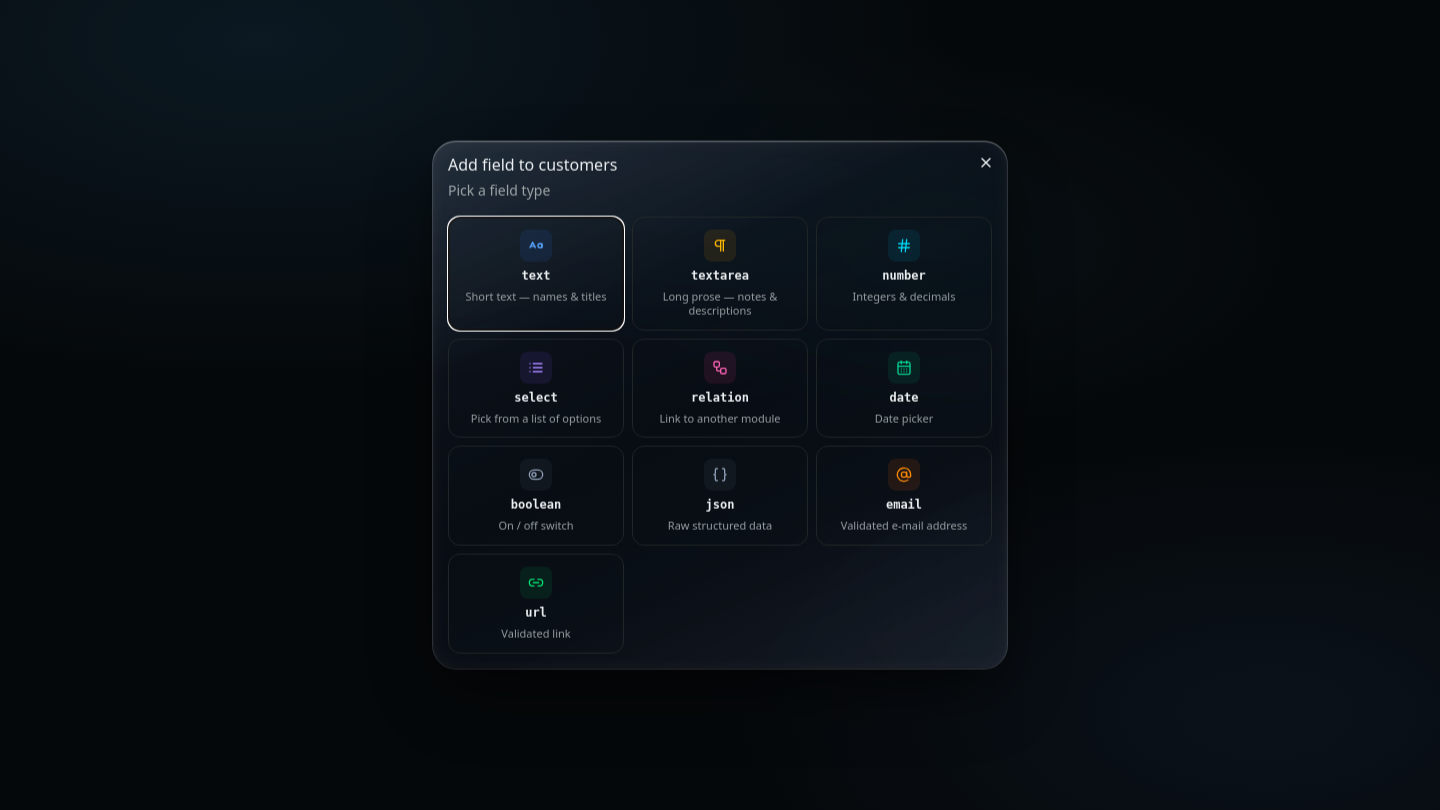
Test: FieldModal add flow › blocks saving an empty label/name
Step 1. Click the button "text Short text — names & titles" → (536, 273), box [448,217,624,330]
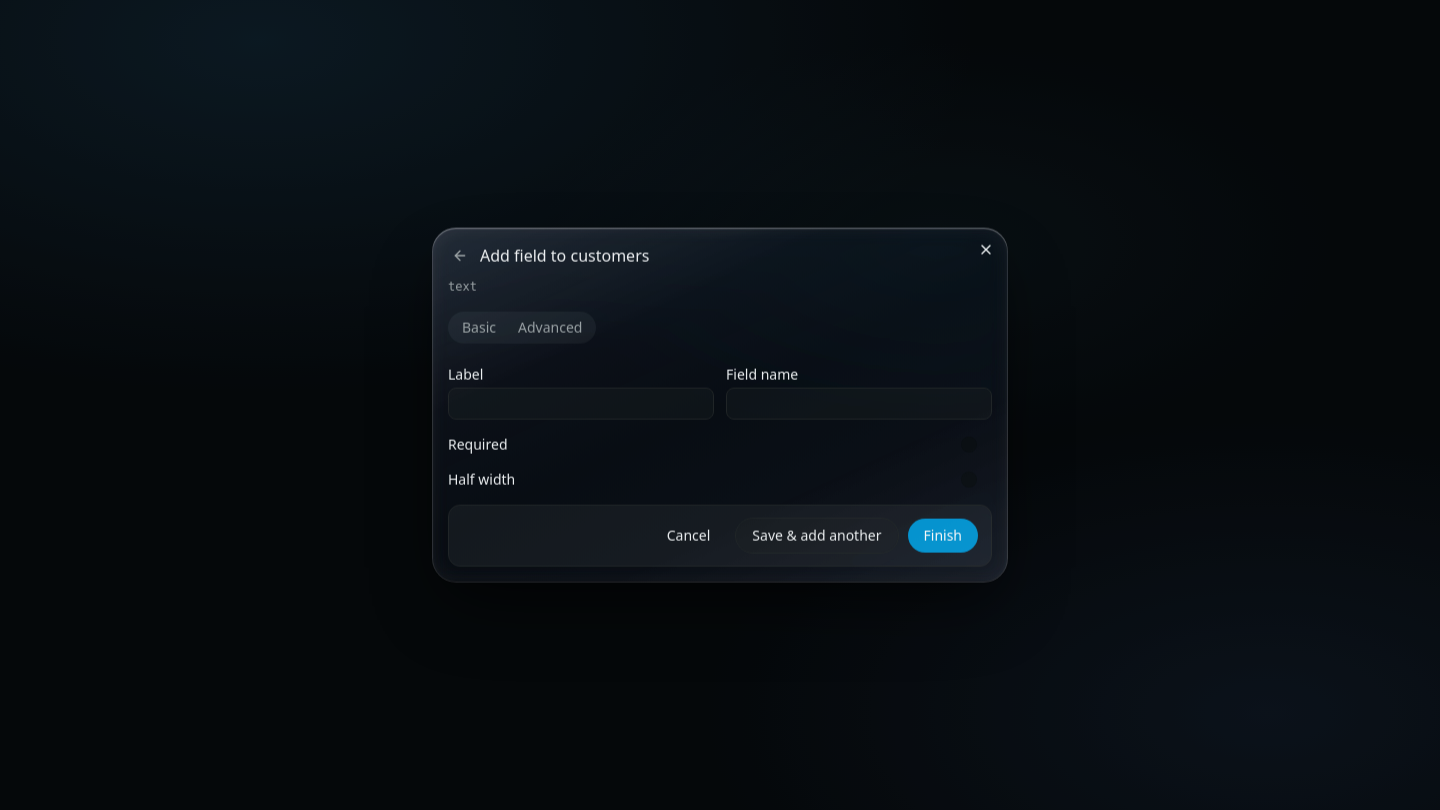
Step 2. Click the button "Finish" → (943, 535), box [906,517,979,553]
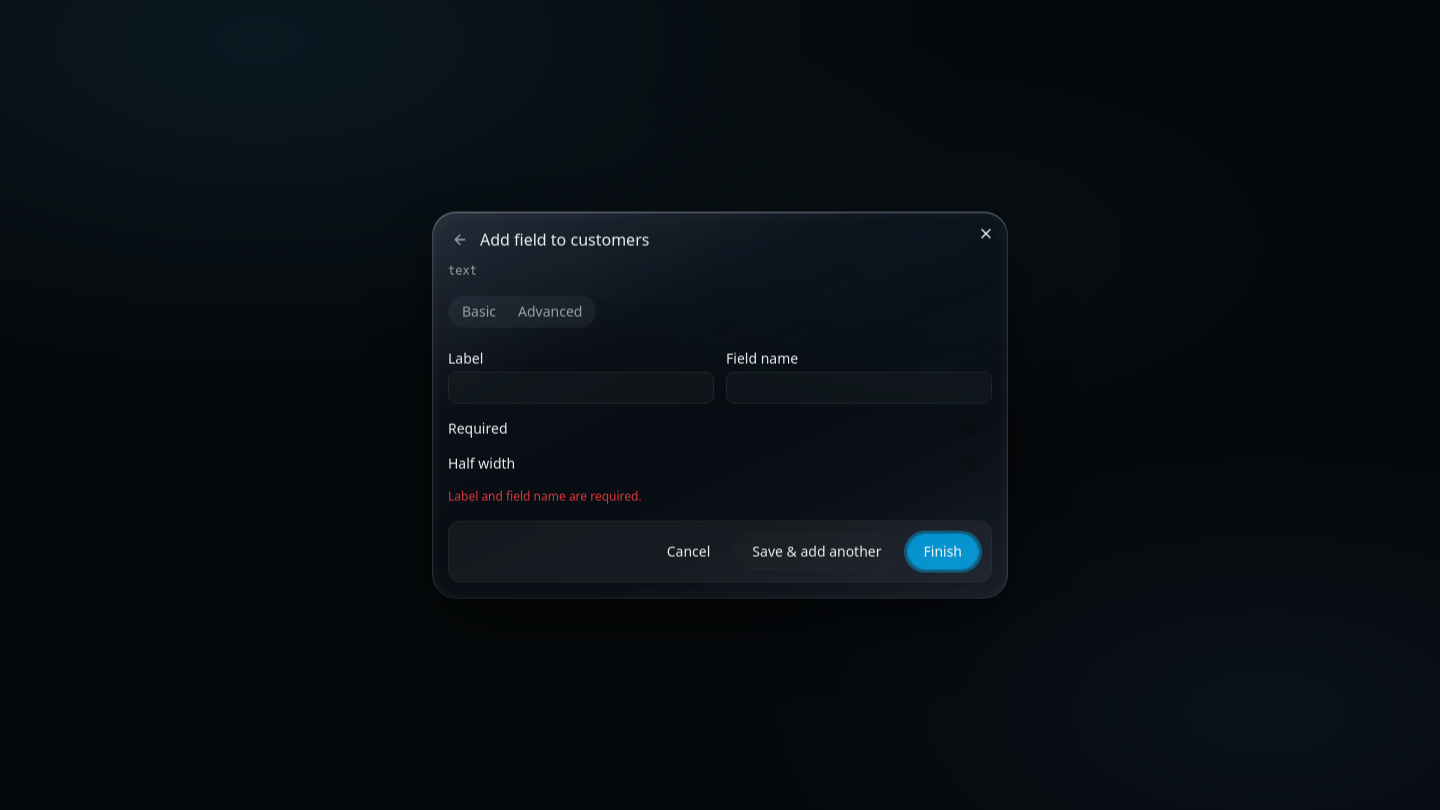
Now the message shows "required", box [448,487,642,504]
